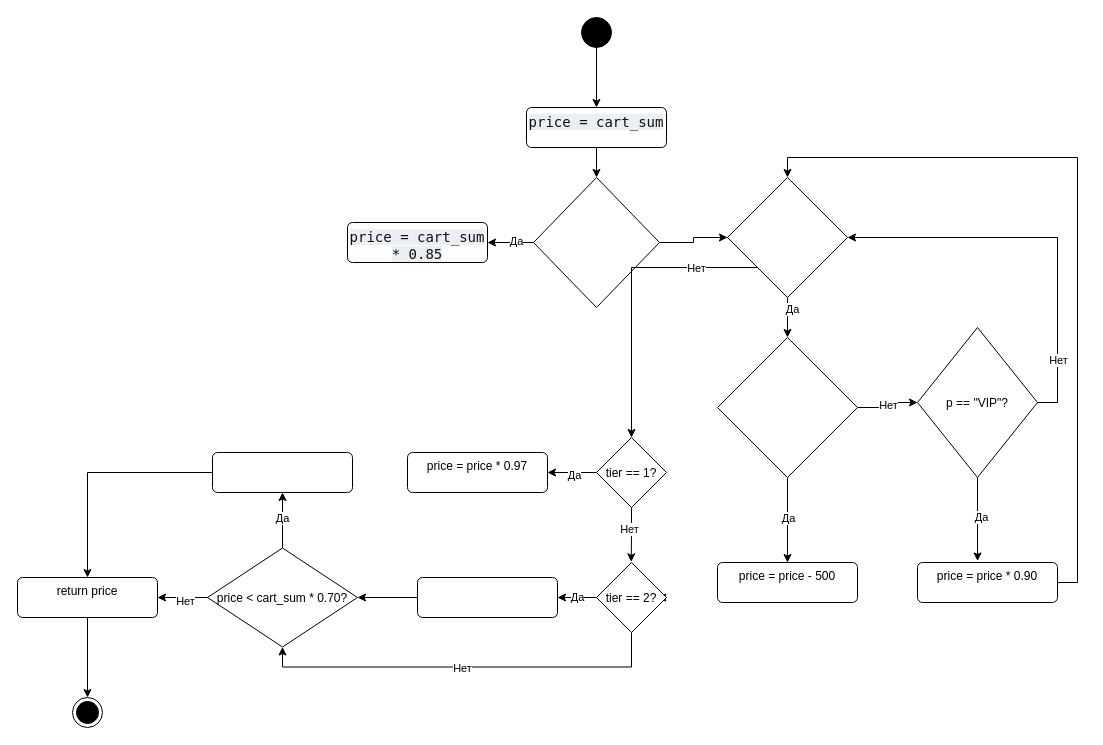
Some shapes in this 1103 by 745 pixel diagram are drawn without their labels. Here are the shapes that lost their labels. From the top down, the box of each, then its label:
(532, 176, 660, 308): cart_sum > 15000?
(726, 176, 848, 298): for p in promos
(716, 336, 858, 478): p == "SUMMER"?
(212, 452, 352, 492): price = cart_sum * 0.70
(416, 576, 558, 618): price = price * 0.93
